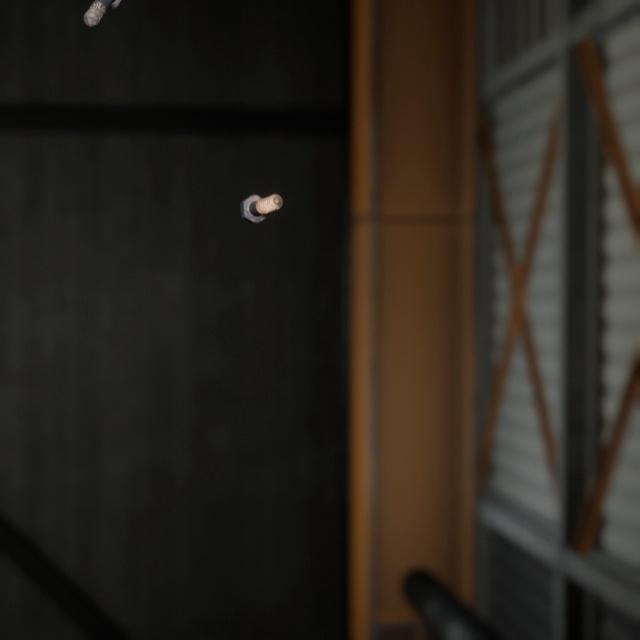bolt: (235, 173, 287, 213), (79, 0, 122, 24)
